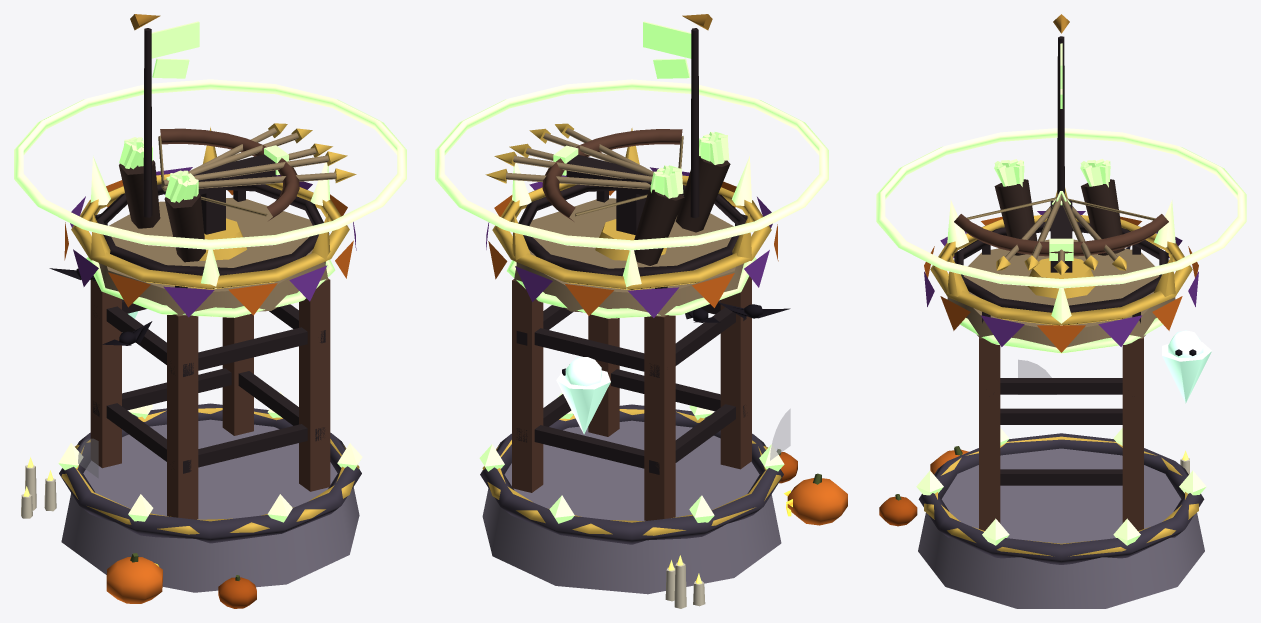
Rendered from tower_archer_arrowRain_ultimate.glb.
3 views of the same model, side by side, from view 1: azimuth 30°, elevation 25°; view 2: azimuth 150°, elevation 25°; view 3: azimuth 270°, elevation 25° (orthographic). The views are drawn at different scales.
Parts seen in each view (by area): view 1: base, ult_halo, deck, base_rim, post_wn, post_en, post_ws, ult_crown_band, deco_hw_bunting, rail, post_es, bow (+24 smaller); view 2: base, ult_halo, base_rim, deck, post_ws, post_es, post_wn, ult_crown_band, deco_hw_bunting, rail, bow, post_en (+26 smaller); view 3: base, base_rim, ult_halo, deck, ult_crown_band, post_en, post_es, deco_hw_bunting, rail, bow, beam_z_0_e, beam_z_0_w (+13 smaller).
Boxes of the visible parts, x1,y1,x2,y2 form: base: (61, 419, 359, 592); ult_halo: (14, 79, 406, 249); deck: (99, 197, 328, 315); base_rim: (59, 403, 361, 543); post_wn: (167, 314, 198, 519); post_en: (299, 278, 330, 491); post_ws: (90, 279, 121, 468); ult_crown_band: (71, 174, 349, 289); deco_hw_bunting: (64, 167, 356, 317); rail: (96, 184, 323, 275); post_es: (222, 314, 253, 435); bow: (160, 128, 299, 220); base: (482, 420, 781, 594); ult_halo: (435, 79, 828, 250); base_rim: (480, 404, 783, 544); deck: (514, 198, 743, 316); post_ws: (644, 315, 675, 520); post_es: (512, 279, 543, 492); post_wn: (720, 276, 751, 469); ult_crown_band: (492, 175, 771, 290); deco_hw_bunting: (486, 167, 778, 317); rail: (518, 184, 746, 276); bow: (542, 129, 682, 221); post_en: (588, 314, 619, 436); base: (918, 448, 1204, 608); base_rim: (918, 433, 1204, 564); ult_halo: (876, 128, 1246, 288); deck: (947, 239, 1175, 347); ult_crown_band: (930, 215, 1192, 325); post_en: (979, 337, 1000, 530); post_es: (1122, 337, 1143, 530); deco_hw_bunting: (924, 211, 1198, 352); rail: (954, 221, 1168, 312); bow: (954, 214, 1168, 256); beam_z_0_e: (1000, 469, 1122, 485); beam_z_0_w: (1000, 408, 1122, 424).
Size of the model in its own units: 0.434 by 0.64 by 0.4274.
